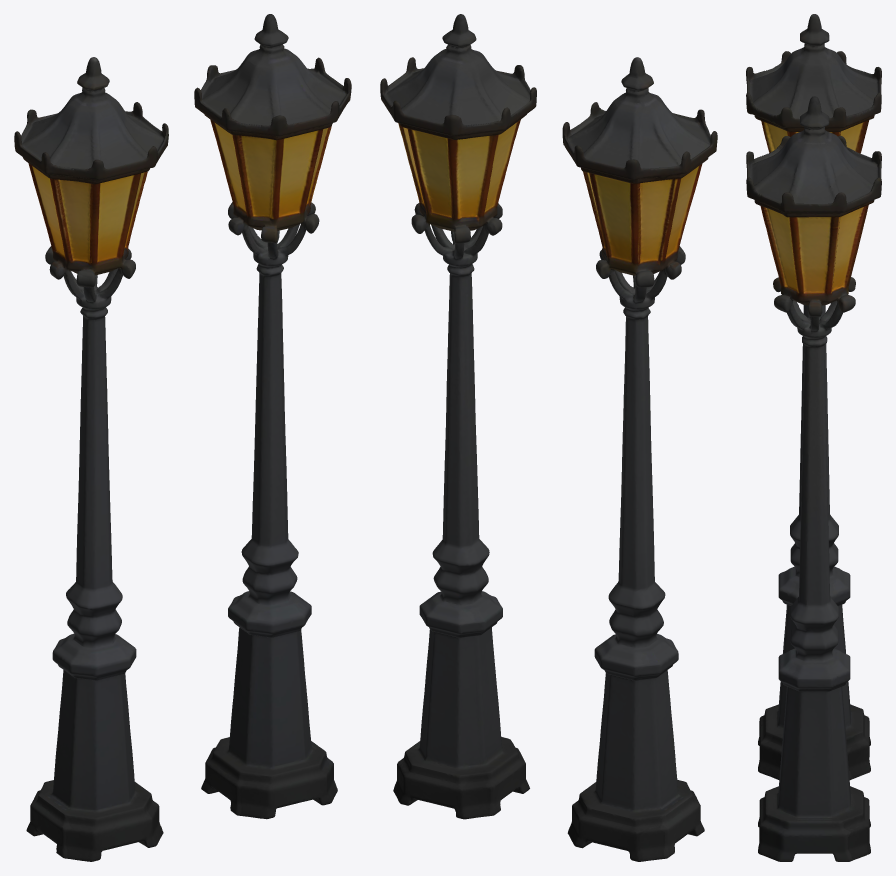
The model's file is lantern.glb.
The picture shows the model from 3 angles, left to right: view 1: azimuth 30°, elevation 25°; view 2: azimuth 150°, elevation 25°; view 3: azimuth 270°, elevation 25°; orthographic projection. The views are drawn at different scales.
Visible parts, largest first — view 1: tripo_node_e55db3a9-8b72-4dc7-8bdd-baa76373e1ec; view 2: tripo_node_e55db3a9-8b72-4dc7-8bdd-baa76373e1ec; view 3: tripo_node_e55db3a9-8b72-4dc7-8bdd-baa76373e1ec.
Boxes of the visible parts, x1=… form: tripo_node_e55db3a9-8b72-4dc7-8bdd-baa76373e1ec: x1=14, y1=14, x2=351, y2=861; tripo_node_e55db3a9-8b72-4dc7-8bdd-baa76373e1ec: x1=380, y1=14, x2=717, y2=861; tripo_node_e55db3a9-8b72-4dc7-8bdd-baa76373e1ec: x1=746, y1=14, x2=881, y2=861.
Bounding box in the file's own units: 0.4136 × 1 × 0.1659.
Materials: 1 (1 with a texture image).
